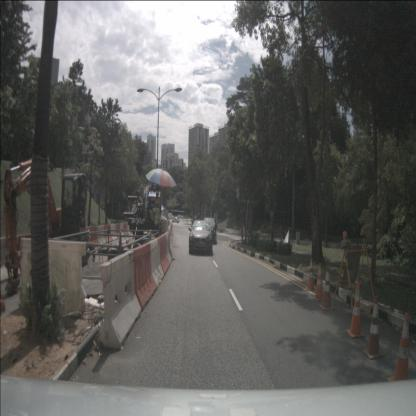movable_object-barrier: (19, 236, 87, 319), (96, 250, 142, 350), (127, 244, 158, 313), (144, 237, 165, 289), (155, 233, 170, 276), (162, 232, 173, 266), (85, 225, 101, 248), (95, 224, 107, 245), (103, 224, 112, 243), (108, 223, 118, 240), (114, 222, 122, 239), (118, 222, 125, 236), (122, 223, 129, 236), (126, 221, 131, 234)
movable_object-trafficcone: (388, 311, 413, 393), (362, 295, 384, 360), (346, 282, 365, 338), (320, 266, 334, 311), (312, 262, 325, 302), (305, 258, 316, 291)
vehicle-car: (188, 220, 212, 255), (200, 217, 218, 245)
